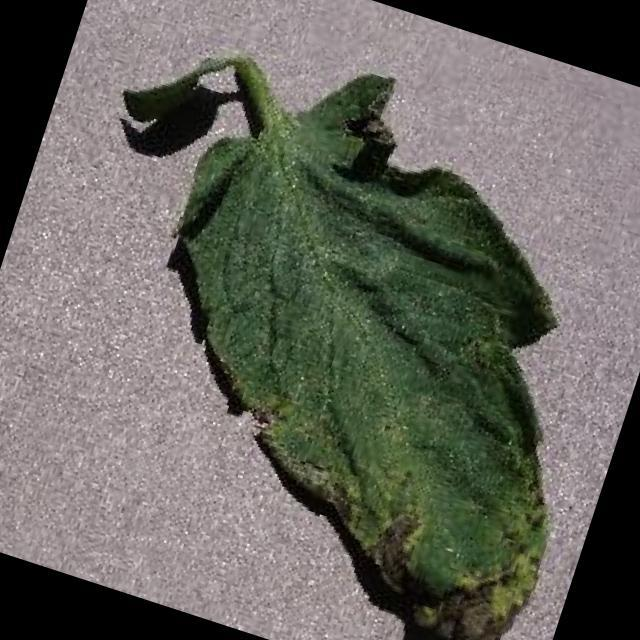Tomato Septoria spot leaf: (66, 21, 640, 640)
